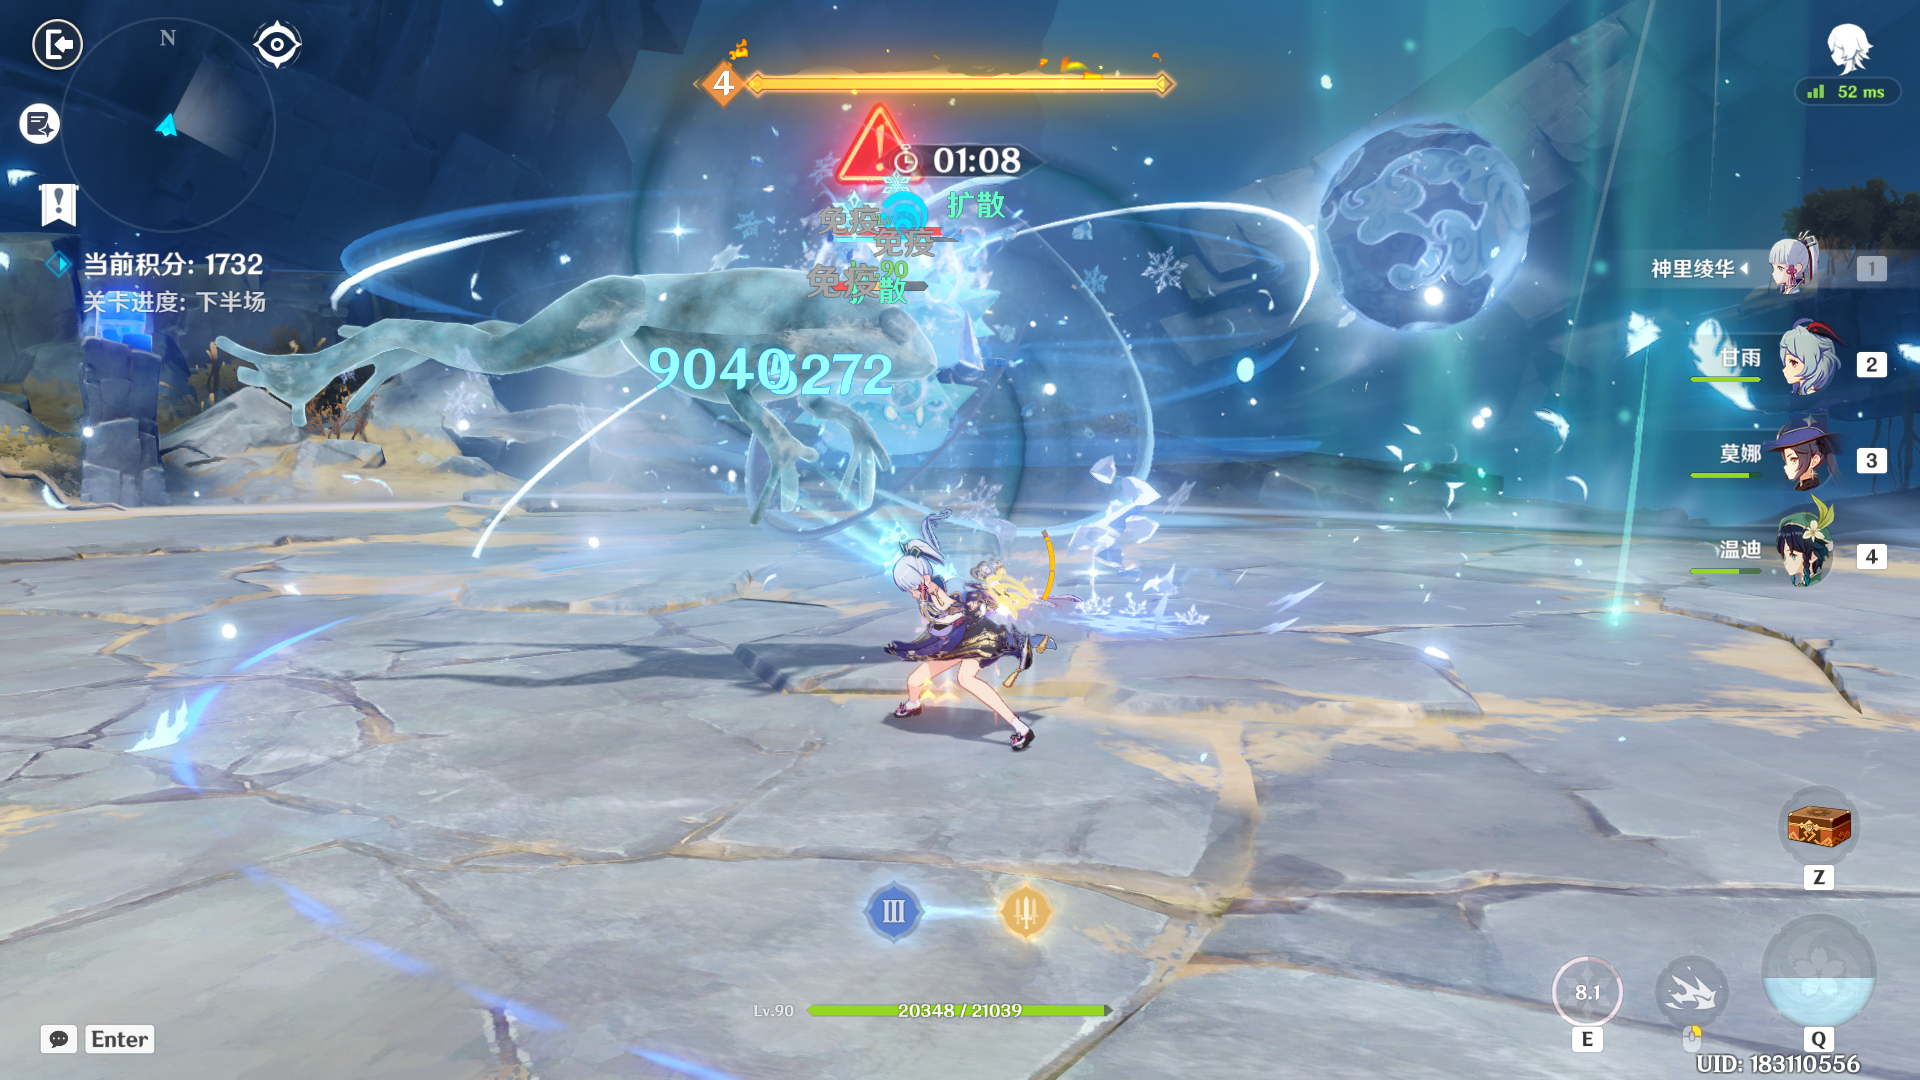character: (866, 524, 1068, 787)
